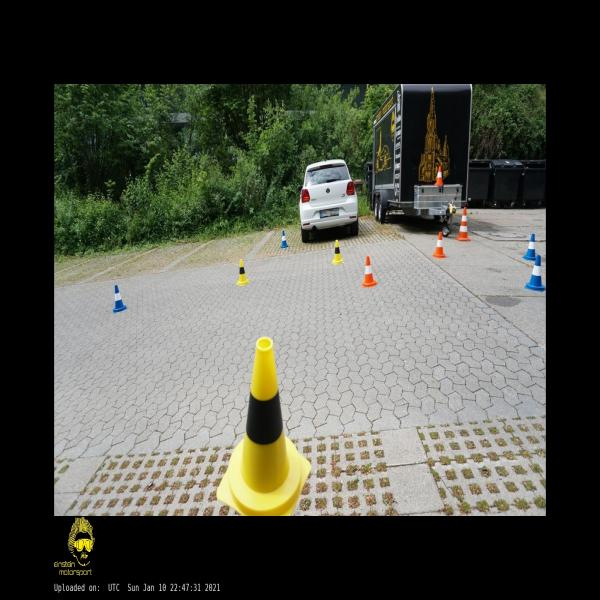blue_cone: (524, 255, 546, 292), (113, 285, 126, 313), (522, 234, 536, 260), (280, 230, 288, 248)
large_orange_cone: (456, 207, 470, 241)
orange_cone: (361, 256, 377, 288), (432, 232, 446, 258), (435, 167, 443, 186)
yellow_cone: (216, 338, 311, 516), (236, 258, 250, 286), (332, 240, 344, 264)
